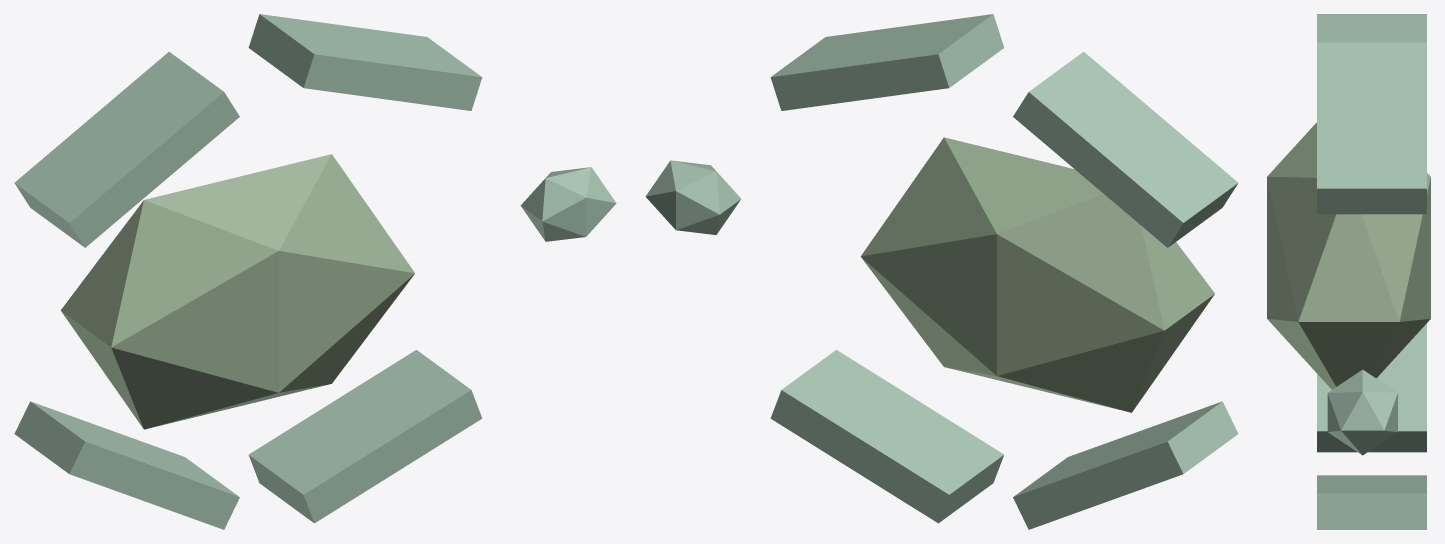
Rendered from sea_turtle.glb.
The picture shows the model from 3 angles, left to right: view 1: azimuth 30°, elevation 25°; view 2: azimuth 150°, elevation 25°; view 3: azimuth 270°, elevation 25°; orthographic projection.
Visible parts, largest first — view 1: world; view 2: world; view 3: world.
Part boxes in pixels (x1,y1,x2,y2): world: (14,14,616,529); world: (645,14,1238,529); world: (1267,14,1430,529).
Bounding box in the file's own units: 1.41 × 1.13 × 0.3573.
